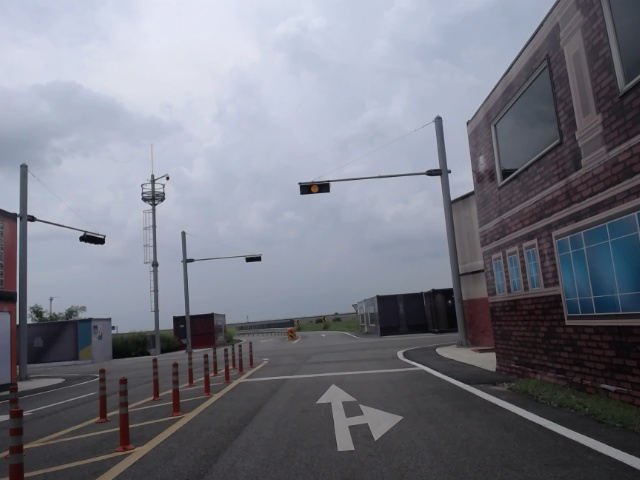orange_3: (299, 182, 331, 196)
